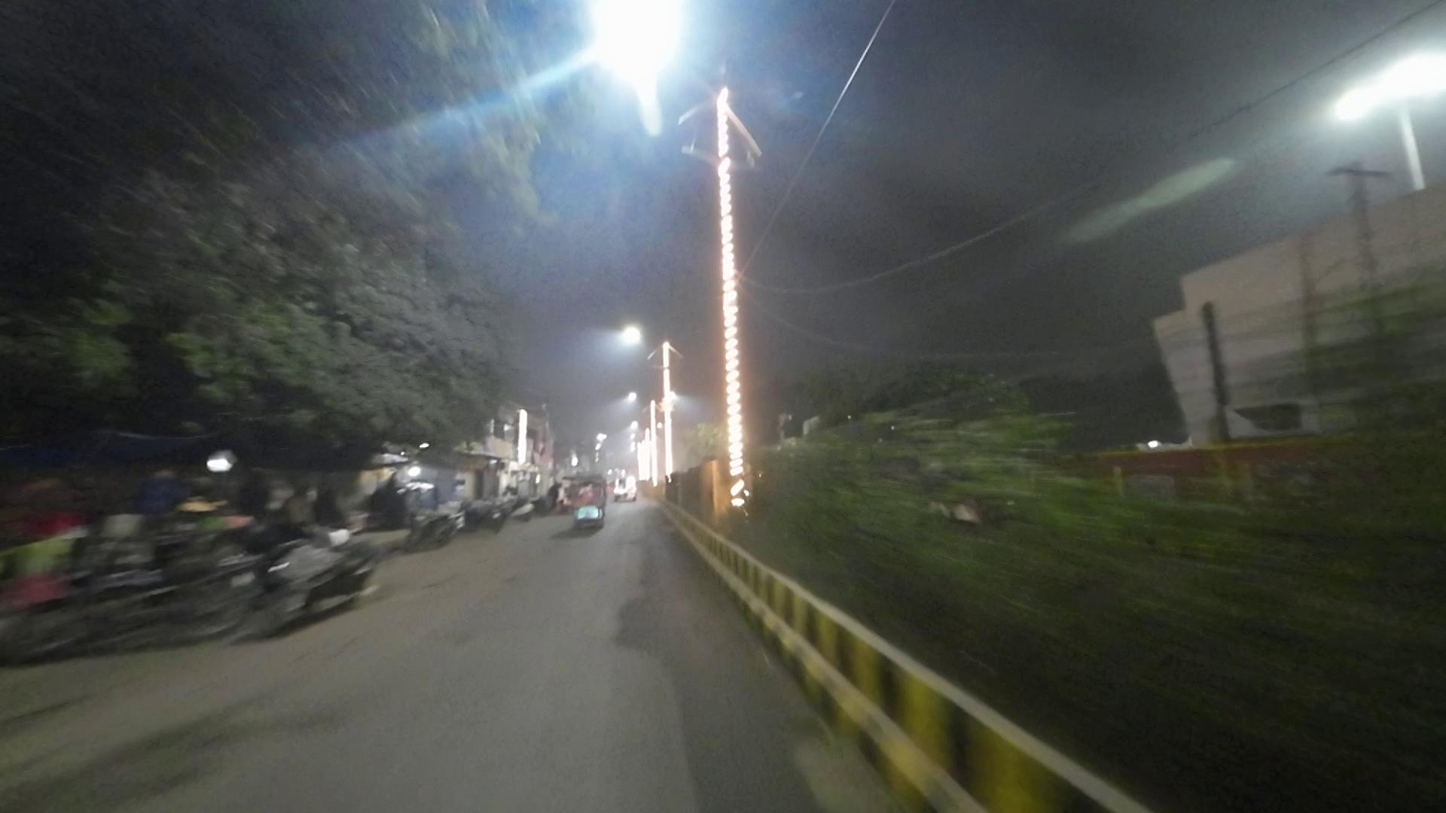streetlight: (739, 84, 808, 104)
